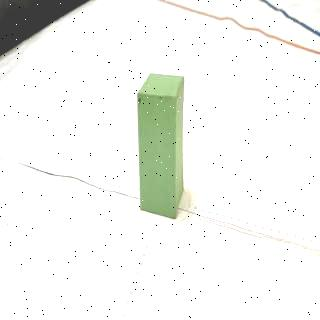greenbox: (137, 70, 187, 220)
